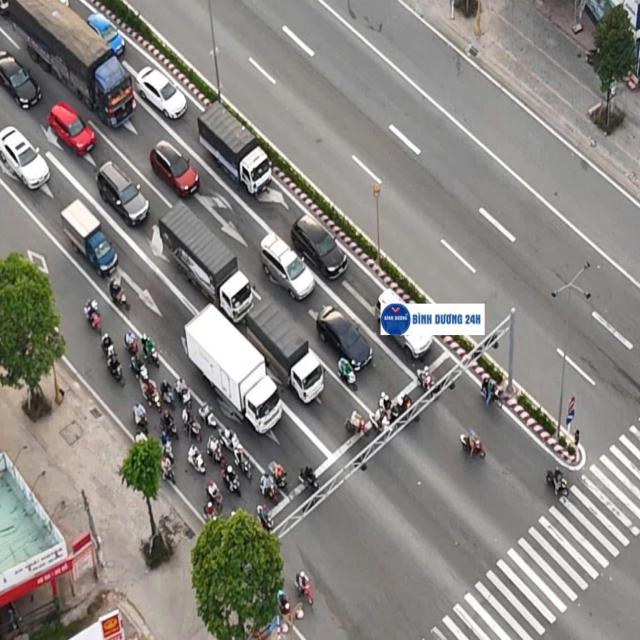Dump Truck: (10, 0, 135, 127), (183, 305, 281, 433), (159, 203, 253, 323), (247, 303, 323, 404)
Truck: (197, 102, 272, 195), (62, 199, 118, 276)
car: (316, 306, 373, 372), (261, 233, 316, 299), (291, 215, 347, 279), (97, 161, 149, 226), (0, 127, 49, 190), (150, 140, 199, 197), (136, 67, 187, 119), (48, 102, 96, 155), (0, 51, 41, 109), (88, 13, 125, 58)
motobyte: (296, 468, 320, 499), (108, 281, 133, 310), (462, 432, 488, 458), (547, 468, 570, 495), (256, 472, 278, 500), (268, 457, 286, 491), (255, 502, 274, 532), (84, 300, 102, 330), (337, 359, 355, 388), (416, 368, 436, 394), (343, 414, 366, 436), (222, 467, 240, 494), (298, 574, 314, 604), (181, 411, 198, 439), (207, 438, 225, 464), (159, 456, 176, 481), (200, 503, 219, 525), (187, 447, 204, 471), (223, 428, 241, 450), (142, 339, 157, 364), (174, 377, 188, 403), (235, 450, 250, 474), (206, 477, 221, 501), (372, 414, 390, 434), (131, 358, 147, 380), (379, 389, 392, 416), (162, 412, 177, 435), (200, 402, 214, 426), (158, 380, 172, 404), (398, 395, 412, 419), (108, 357, 120, 384), (133, 401, 146, 425), (146, 382, 158, 407), (124, 332, 136, 355), (160, 436, 172, 456)
